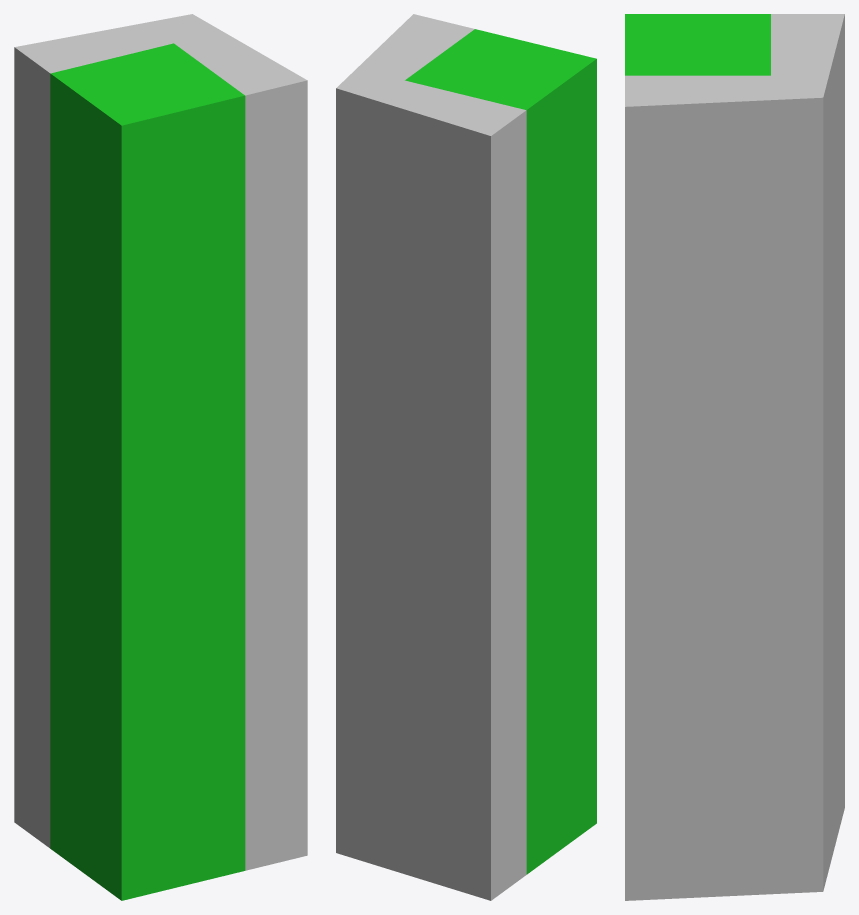
Rendered from wall_corner.fbx.
3 renders of one model, left to right at view 1: azimuth 30°, elevation 25°; view 2: azimuth 150°, elevation 25°; view 3: azimuth 270°, elevation 25°, orthographic. The views are drawn at different scales.
Parts seen in each view (by area): view 1: Cube.001; view 2: Cube.001; view 3: Cube.001.
Part boxes in pixels (bbox=[...]): Cube.001: bbox=[14, 14, 307, 900]; Cube.001: bbox=[336, 14, 596, 900]; Cube.001: bbox=[625, 14, 844, 900].
Bounding box in the file's own units: 75.25 × 300 × 75.25.
